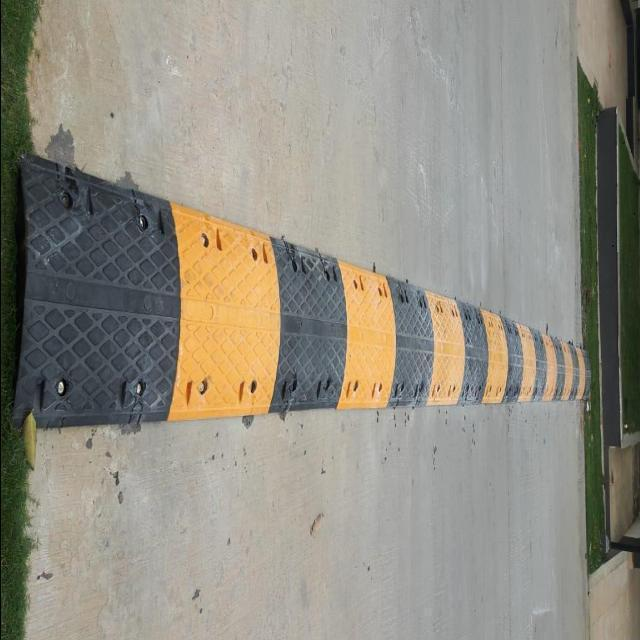speedbreaker: (16, 137, 594, 503)
